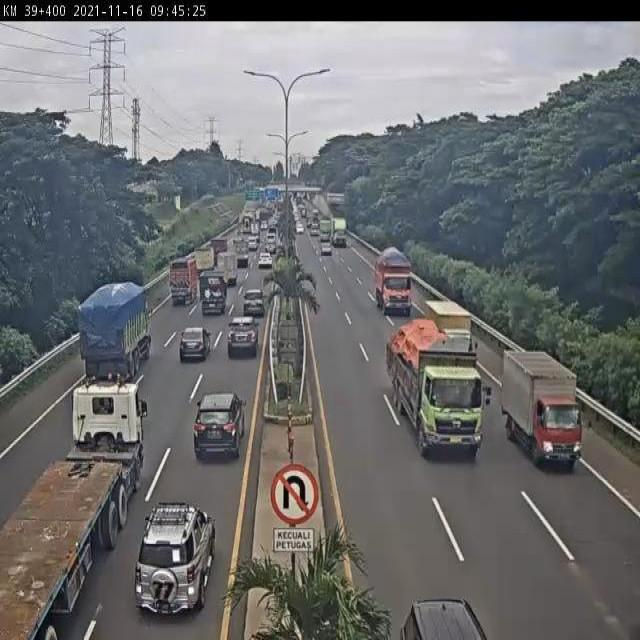car: (135, 500, 222, 619), (196, 390, 247, 454), (229, 313, 258, 355), (178, 327, 212, 361), (242, 289, 266, 316)
small truck: (501, 351, 583, 468)
truck-l-: (383, 315, 494, 468), (77, 282, 151, 382), (375, 251, 414, 316)
truck-m-: (169, 256, 197, 305), (199, 271, 227, 313)
truck-xl-: (6, 385, 149, 640)
